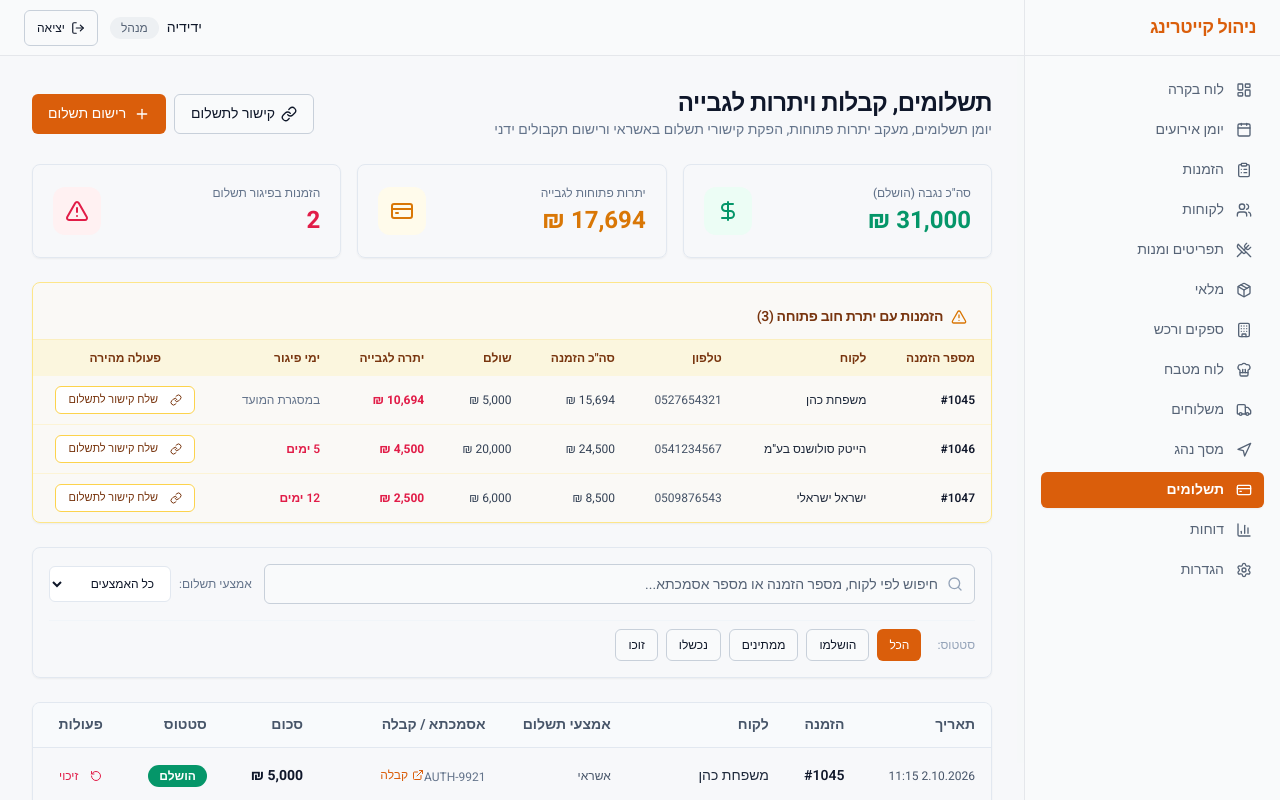
S14 Payments & Billing › opens payment link generator modal from overdue row
The width and height of the screenshot is (1280, 800).
Expected: the heading "הזמנות עם יתרת חוב פתוחה (3)" is shown, [757,307,967,327]
Click the button "שלח קישור לתשלום" in the row of "0527654321" at (125, 400), box [56,386,195,414]
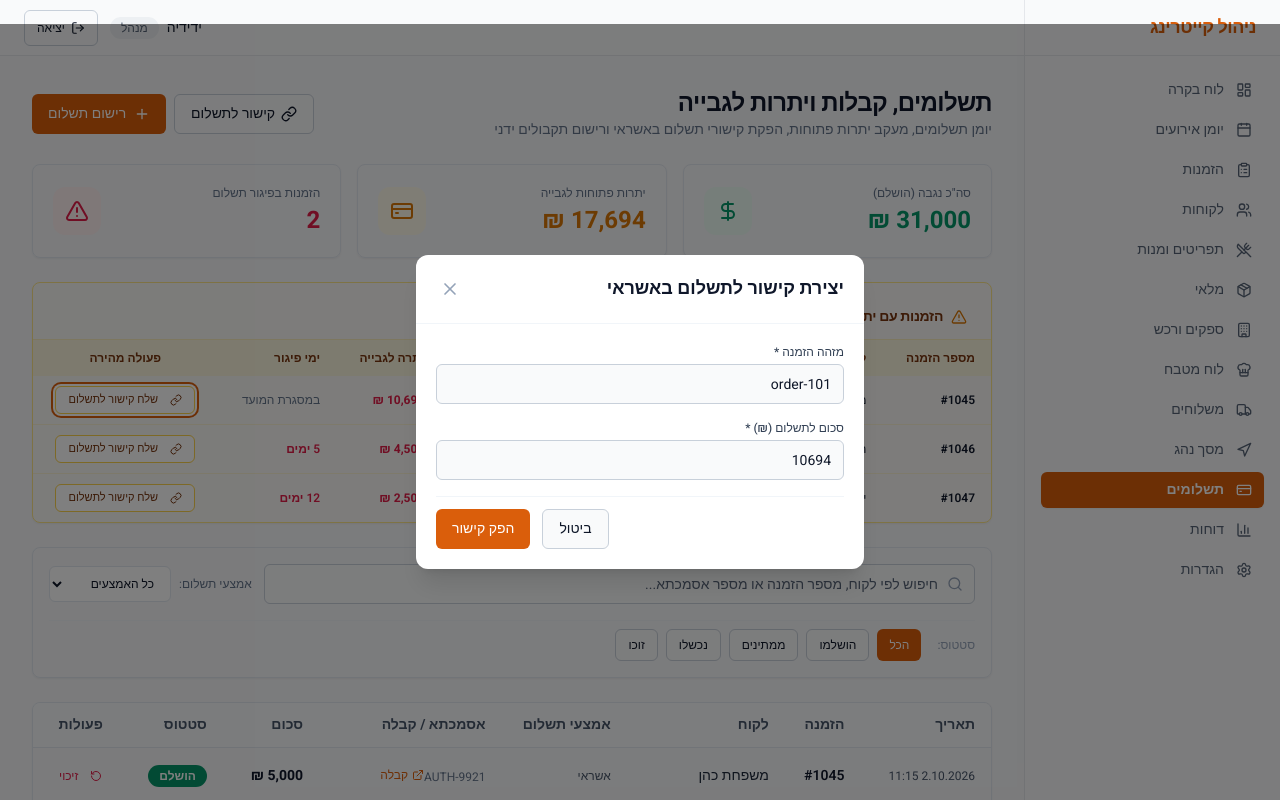
Result: the heading "יצירת קישור לתשלום באשראי" is shown at [607,275,844,303]
Result: the field showing "order-101" is shown at [436,364,844,404]
